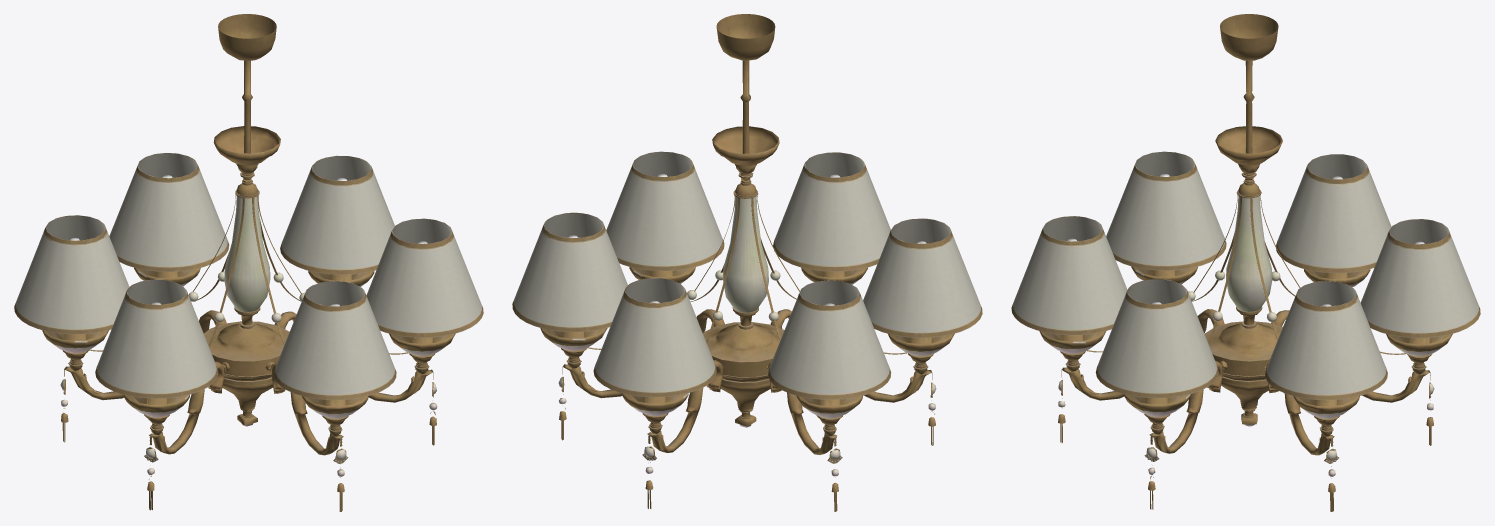
File: Chandelier_01.glb
3 renders of one model, left to right at view 1: azimuth 30°, elevation 25°; view 2: azimuth 150°, elevation 25°; view 3: azimuth 270°, elevation 25°, orthographic.
Parts seen in each view (by area): view 1: Chandelier_01; view 2: Chandelier_01; view 3: Chandelier_01.
Part boxes in pixels (x1=…): Chandelier_01: x1=14, y1=14, x2=483, y2=511; Chandelier_01: x1=512, y1=14, x2=982, y2=511; Chandelier_01: x1=1011, y1=14, x2=1480, y2=511.
Size of the model in its own units: 0.7465 by 0.7983 by 0.8155.
2 materials, 1 textured.
